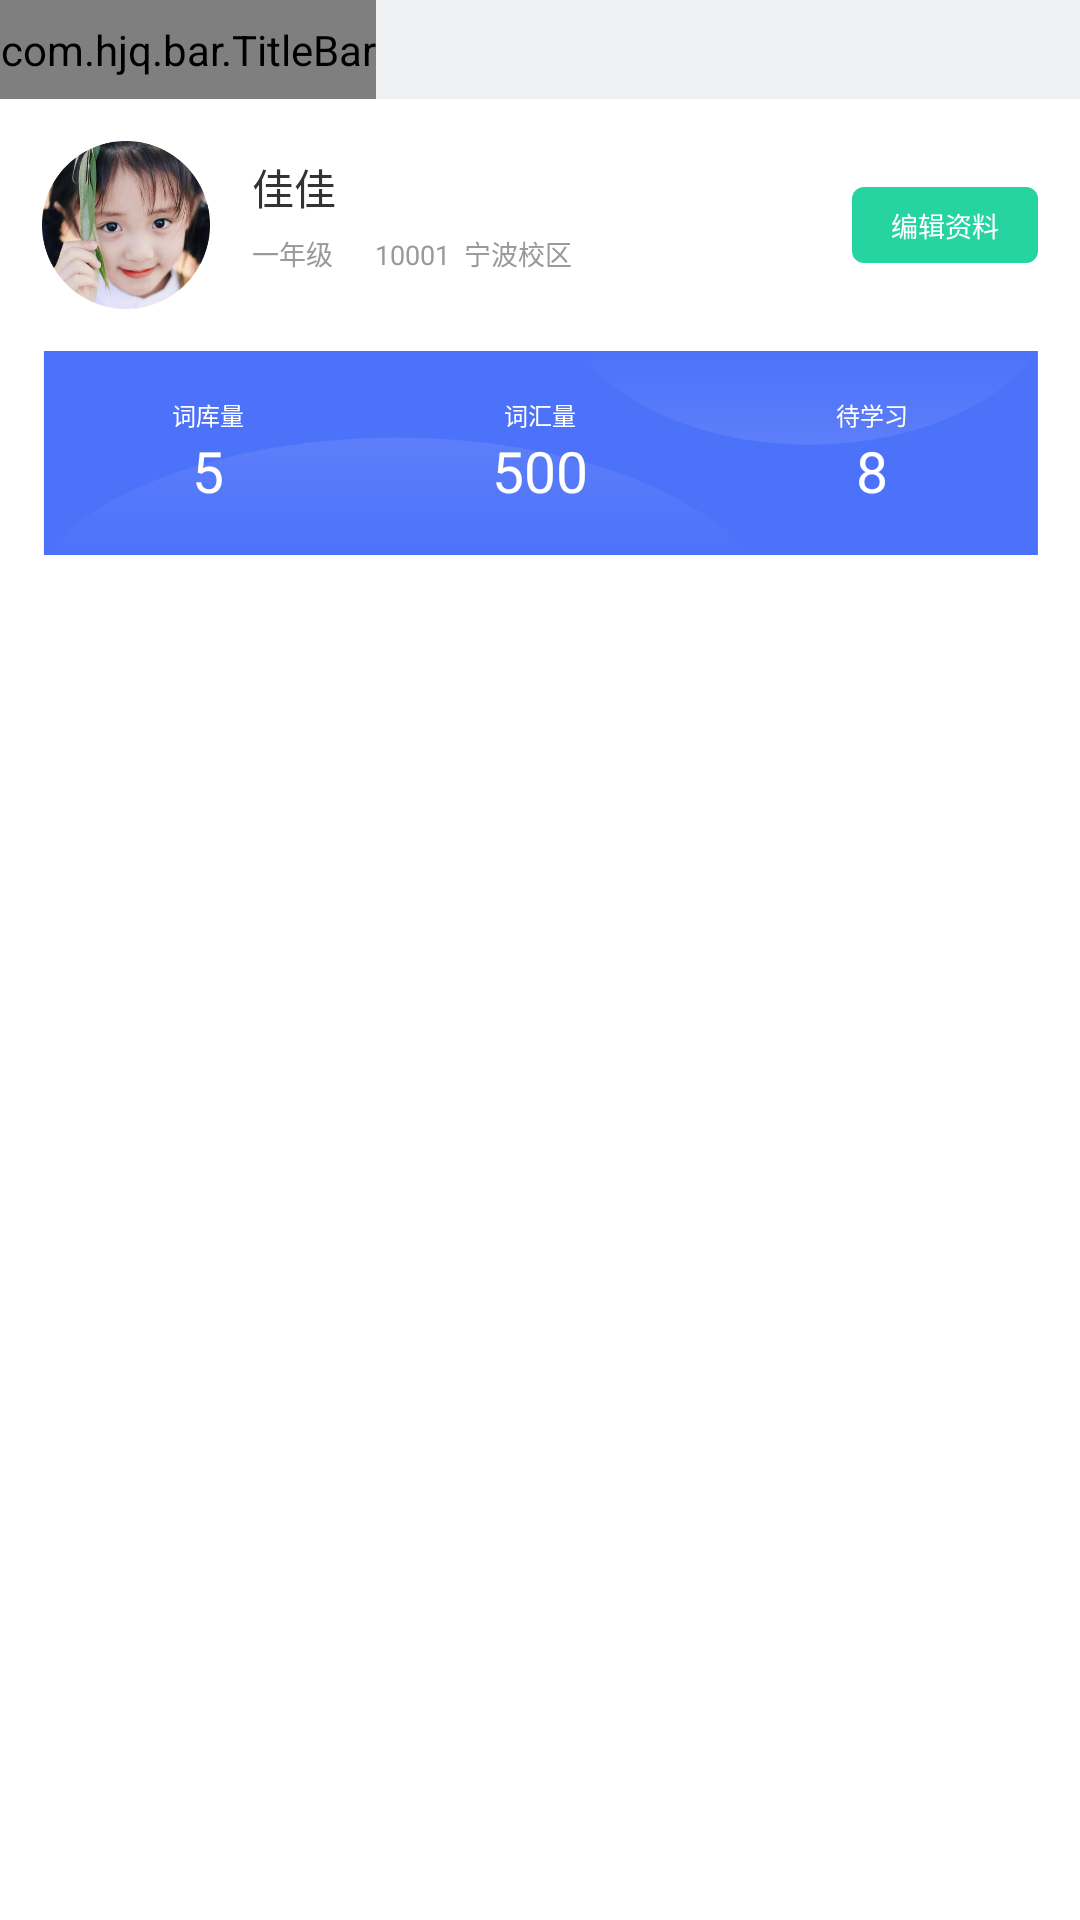

Screen size 1080w x 1920h. Icon name, then its box in pixels as (x1, y1, x2, y2):
head: (42, 141, 210, 309)
